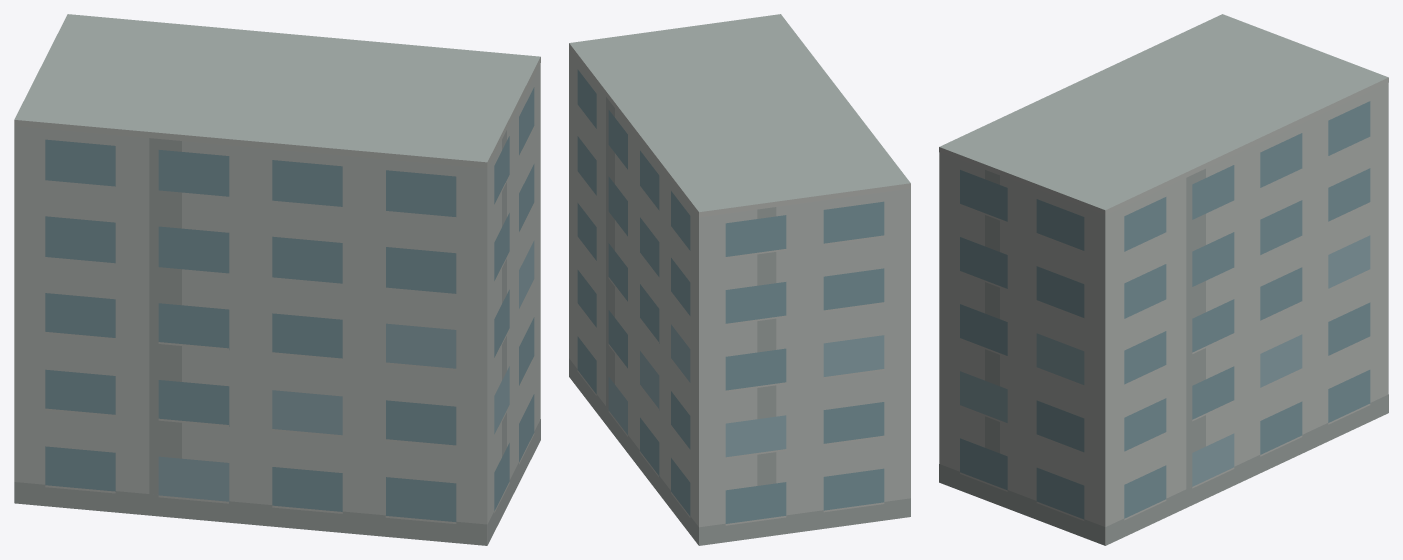
Rendered from residential-7cc6d7ea-e890-498a-96f7-f48ff2a6fb4a.glb.
3 views of the same model, side by side, from view 1: azimuth 30°, elevation 25°; view 2: azimuth 150°, elevation 25°; view 3: azimuth 270°, elevation 25° (orthographic). The views are drawn at different scales.
Parts seen in each view (by area): view 1: residential-7cc6d7ea-e890-498a-96f7-f48ff2a6fb4a.tmp; view 2: residential-7cc6d7ea-e890-498a-96f7-f48ff2a6fb4a.tmp; view 3: residential-7cc6d7ea-e890-498a-96f7-f48ff2a6fb4a.tmp.
Boxes of the visible parts, x1,y1,x2,y2 form: residential-7cc6d7ea-e890-498a-96f7-f48ff2a6fb4a.tmp: [14, 14, 540, 545]; residential-7cc6d7ea-e890-498a-96f7-f48ff2a6fb4a.tmp: [569, 14, 910, 545]; residential-7cc6d7ea-e890-498a-96f7-f48ff2a6fb4a.tmp: [939, 14, 1388, 545].
Bounding box in the file's own units: 19.13 × 15.25 × 18.52.
